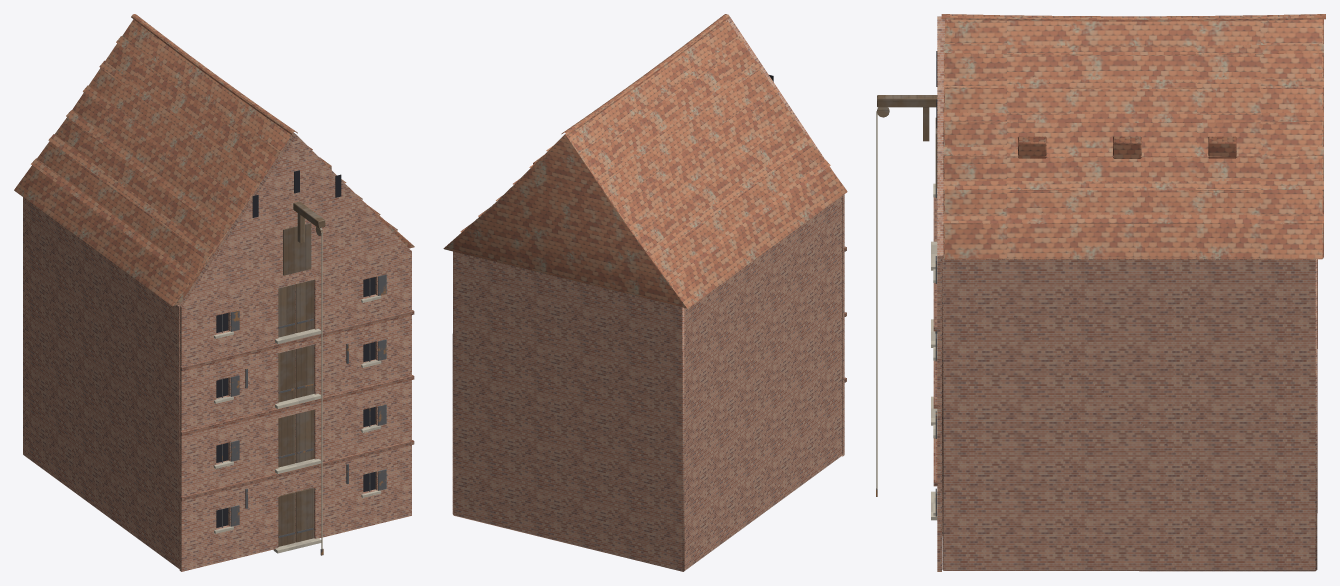
The model's file is dock_granary.glb.
3 views of the same model, side by side, from view 1: azimuth 30°, elevation 25°; view 2: azimuth 150°, elevation 25°; view 3: azimuth 270°, elevation 25° (orthographic). The views are drawn at different scales.
Visible parts, largest first — view 1: dock_granary; view 2: dock_granary; view 3: dock_granary.
Part boxes in pixels (box(x1,y1,x2,y2)): dock_granary: box(14, 14, 414, 571); dock_granary: box(443, 14, 847, 571); dock_granary: box(876, 14, 1325, 571).
Size of what is drawn, in the model's own units: 10.56 by 17.17 by 14.19.
11 materials, 10 textured.
